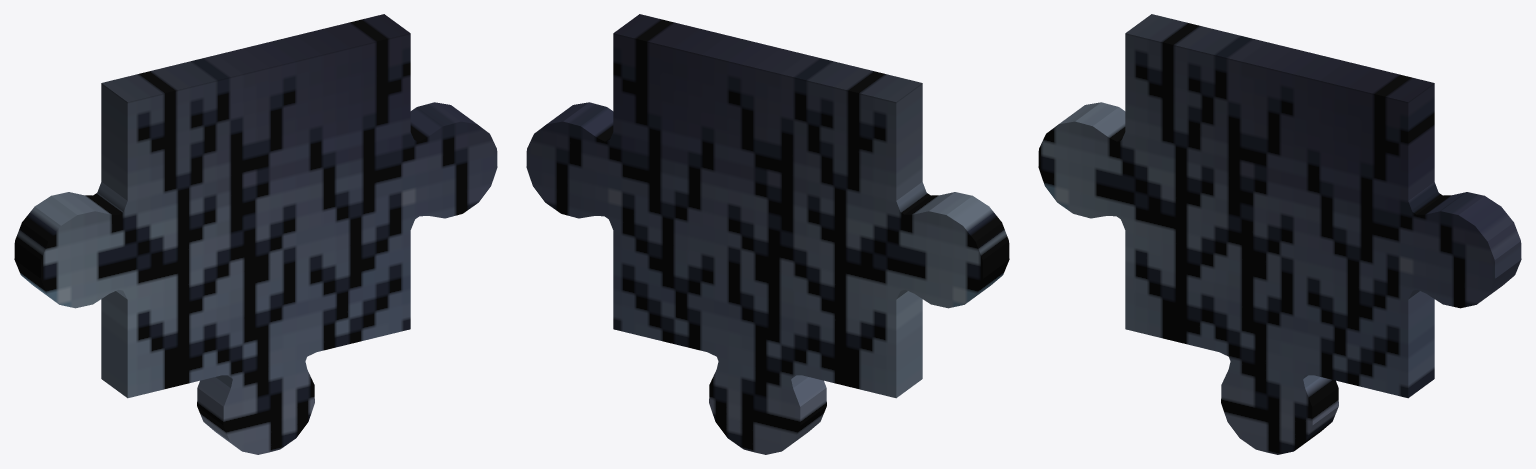
The model's file is Pieces_14_006.fbx.
The picture shows the model from 3 angles, left to right: view 1: azimuth 30°, elevation 25°; view 2: azimuth 150°, elevation 25°; view 3: azimuth 330°, elevation 25°; orthographic projection.
Visible parts, largest first — view 1: Pieces 14.006; view 2: Pieces 14.006; view 3: Pieces 14.006.
Part boxes in pixels (<box>): Pieces 14.006: <box>14,14,497,454</box>; Pieces 14.006: <box>526,14,1009,454</box>; Pieces 14.006: <box>1038,14,1521,454</box>.
Size of the model in its own units: 130 by 105 by 12.98.
